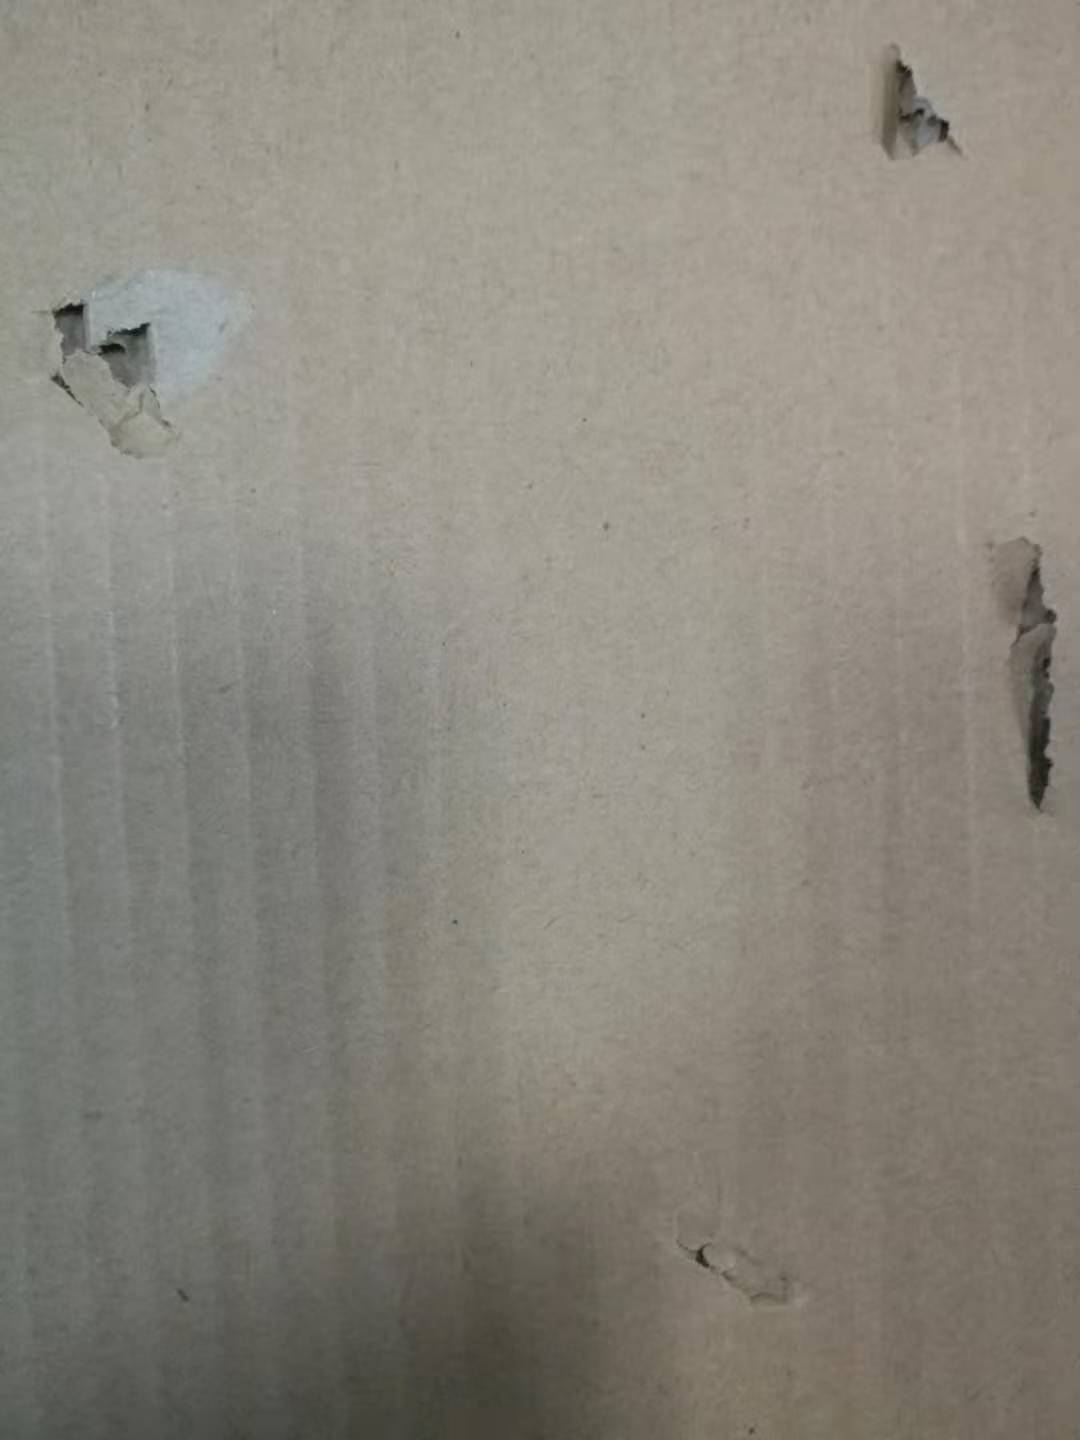defect: (17, 232, 299, 492), (922, 484, 1080, 854), (623, 1172, 857, 1342), (837, 22, 997, 193)
